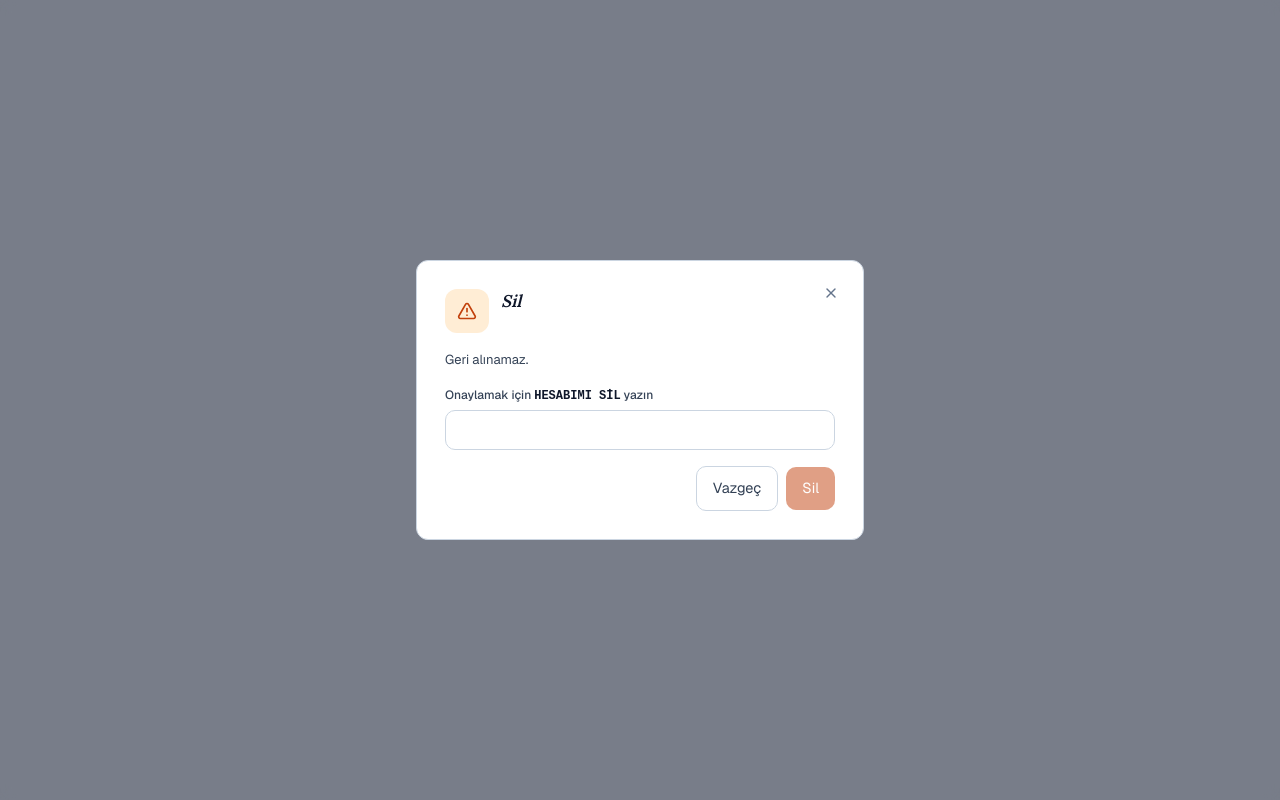
Test case: ConfirmDialog — typed-confirmation gate › metin tam eşleşene kadar onay butonu pasif, eşleşince aktif
The image size is (1280, 800).
Check: the button "Sil" is disabled, box [786,467,835,510]
In the field named "Onay metni: HESABIMI SİL": (640, 430) [445,410,835,450], type "HESABIMI"
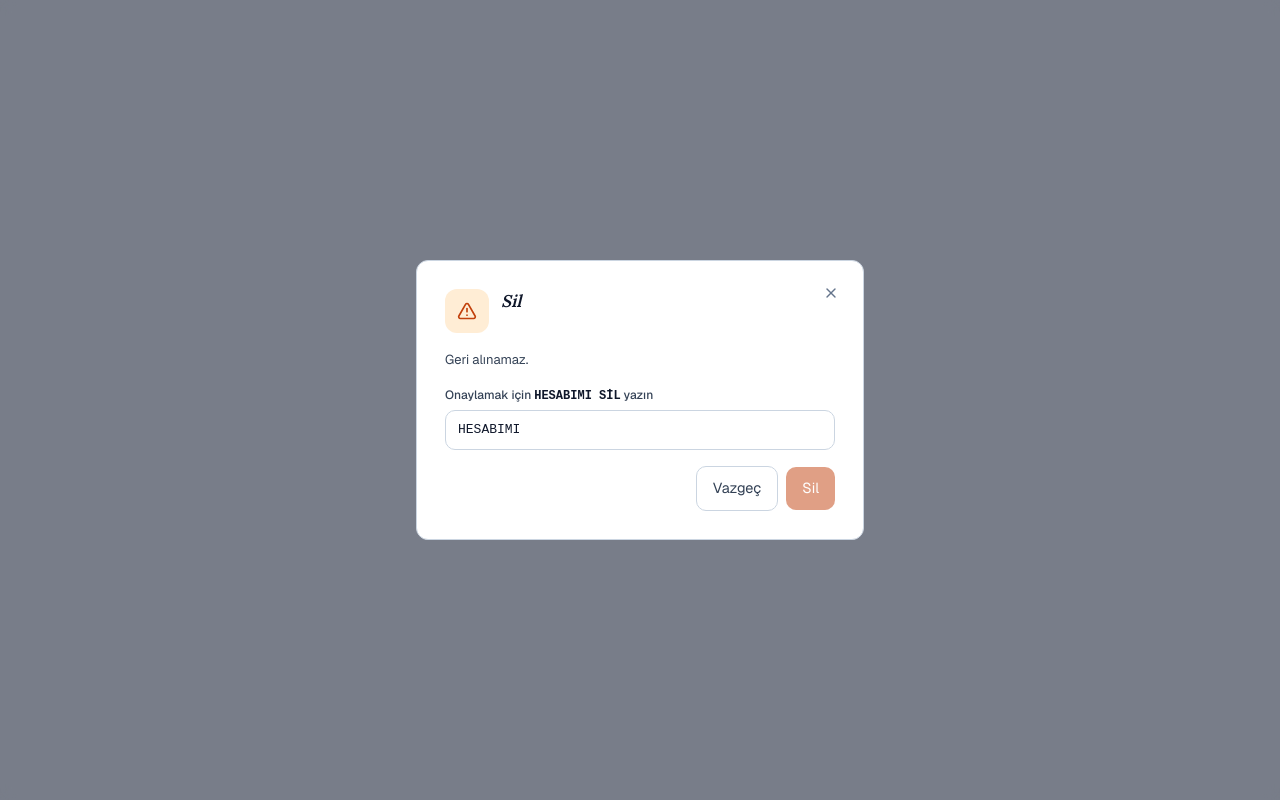
Check: the button "Sil" is disabled, box [786,467,835,510]
Replace the text in the field named "Onay metni: HESABIMI SİL" with "HESABIMI SİL": (640, 430) [445,410,835,450]
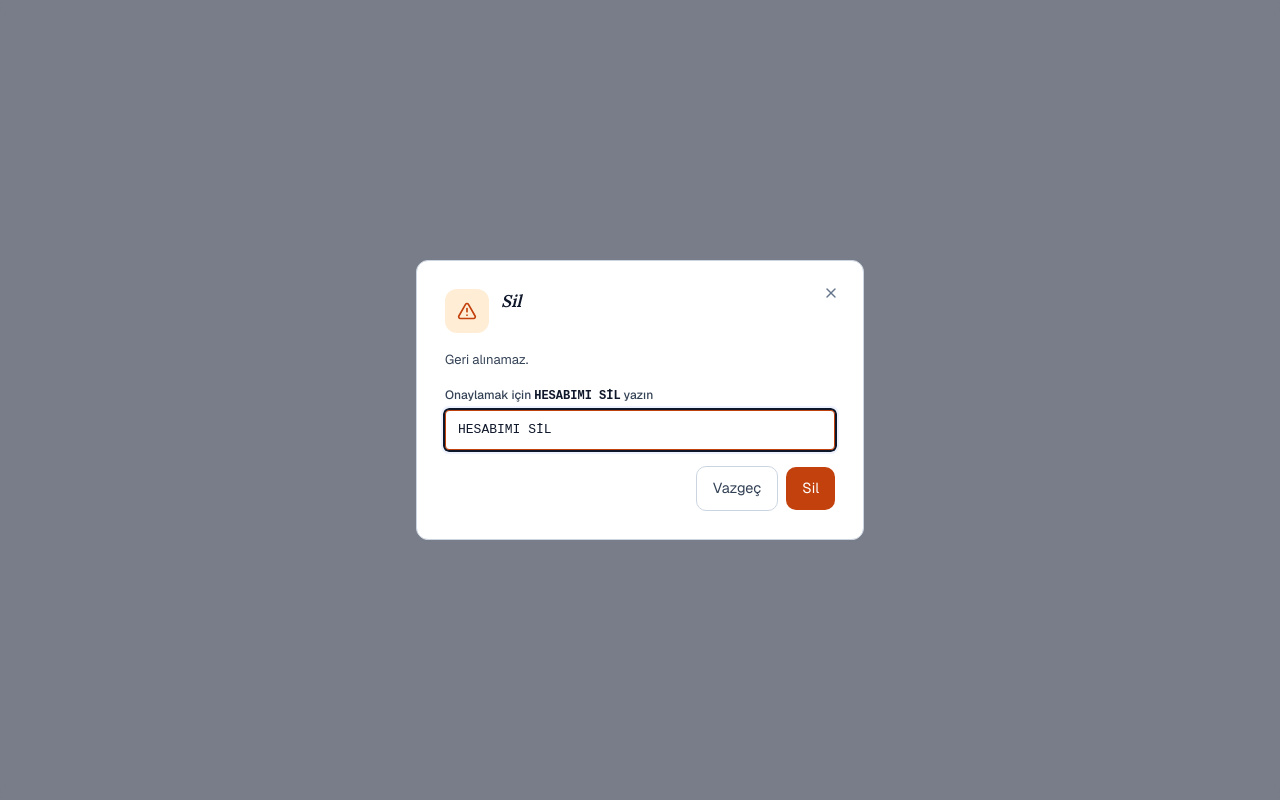
Check: the button "Sil" is enabled, box [786,467,835,510]
